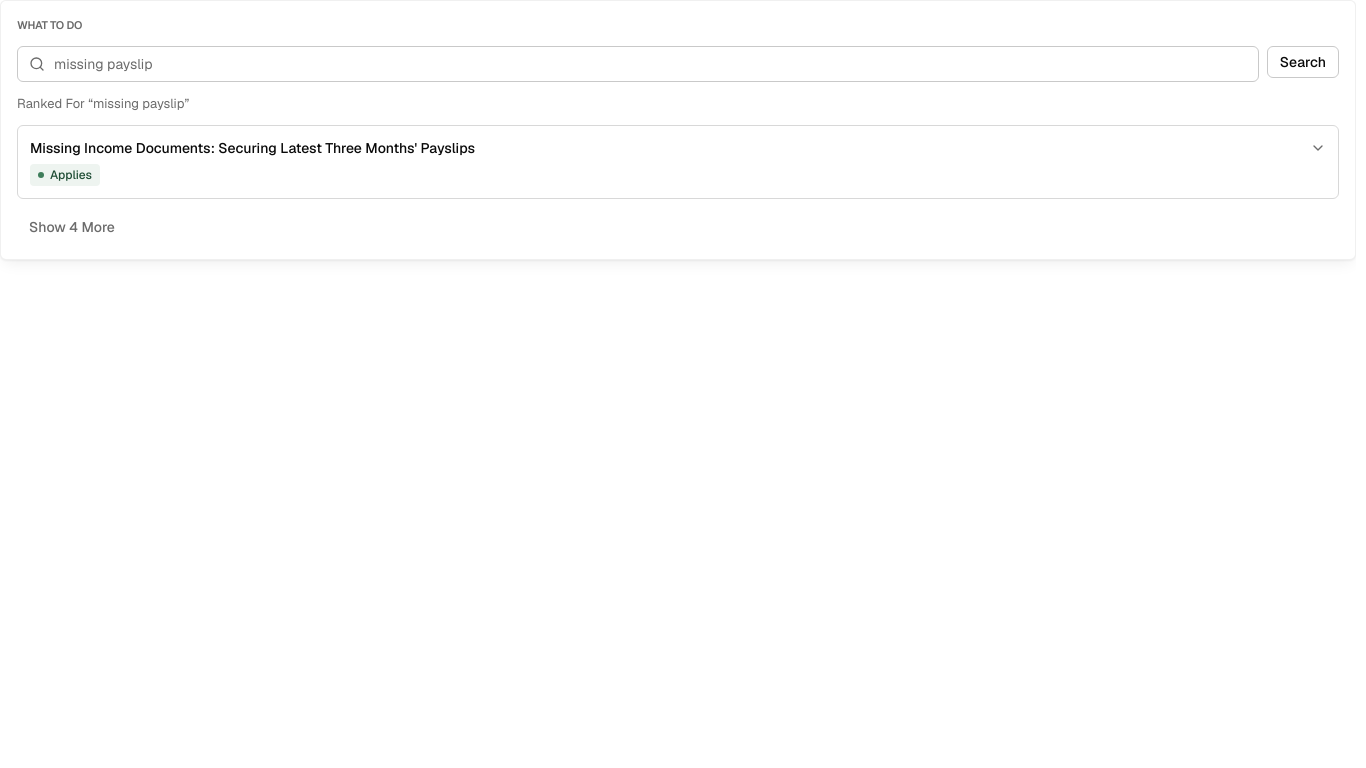
PlaybooksPanel › unfolds the rest behind one click and re-folds
What coordinates should you click on to do the following:
click the button "Show 4 More"
I would click on:
 (72, 227)
Its box is [17,211,127,243].
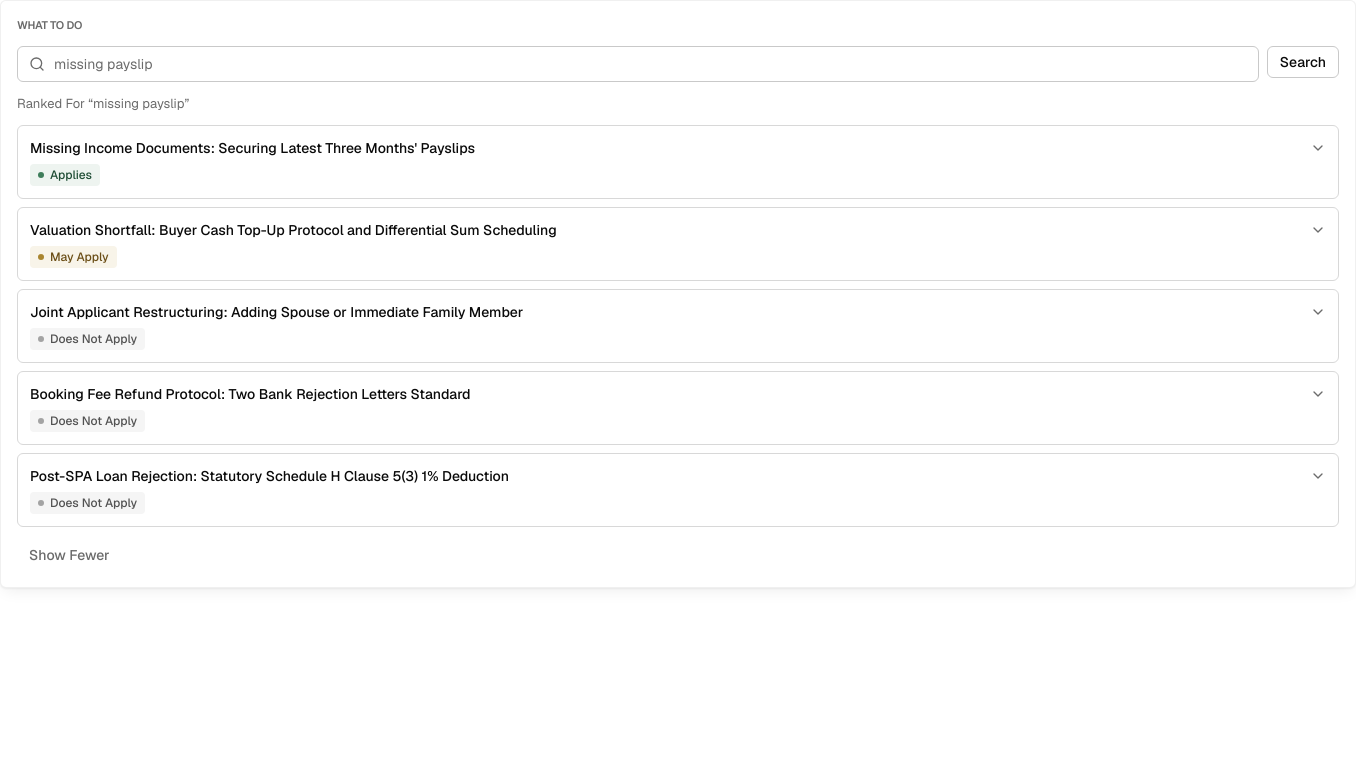
expect the text "Valuation Shortfall: Buyer Cash Top-Up Protocol and Differential Sum Scheduling" is shown: met, box [30,220,557,240]
expect the text "Joint Applicant Restructuring: Adding Spouse or Immediate Family Member" is shown: met, box [30,302,523,322]
expect the text "May Apply" is shown: met, box [30,246,117,268]
What coordinates should you click on to do the following:
click the button "Show Fewer"
I would click on:
 (69, 555)
Its box is [17,539,122,571].
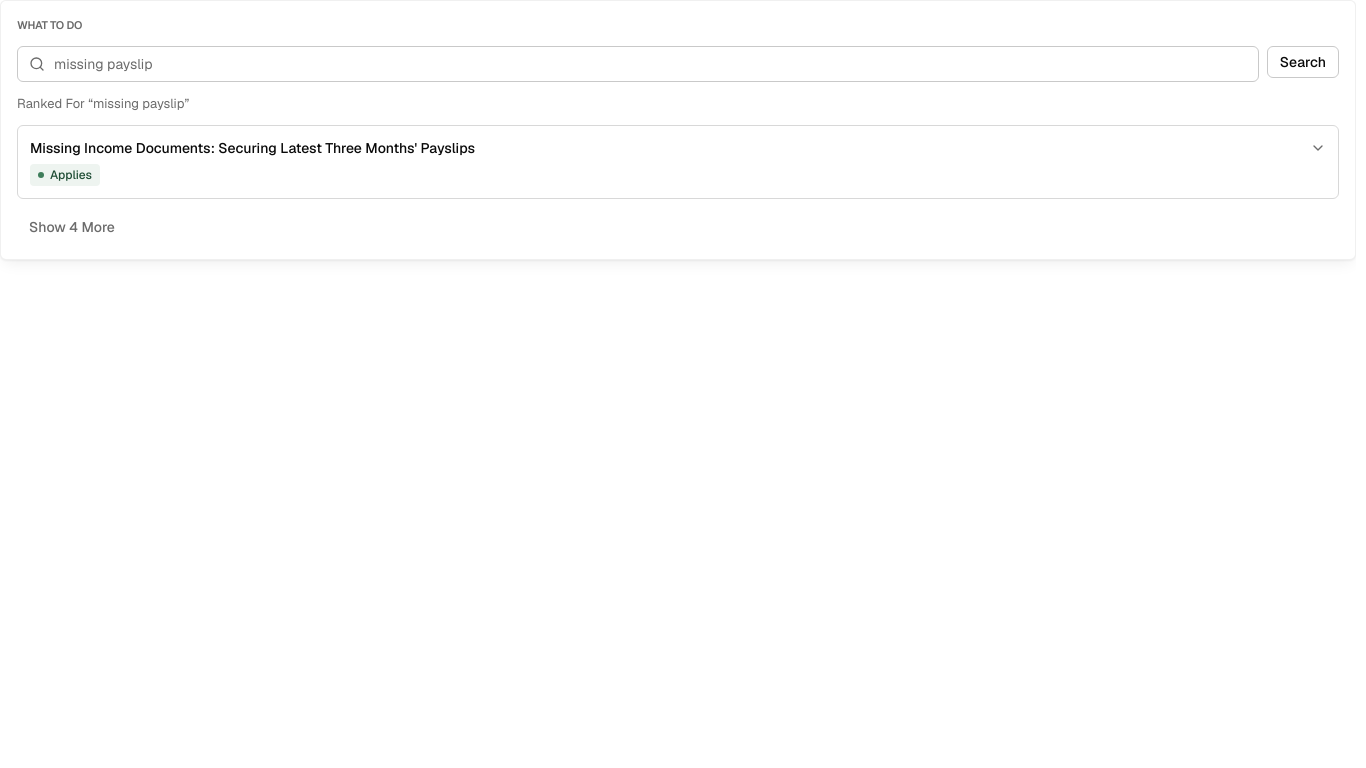
expect the button "Joint Applicant Restructuring: Adding Spouse or Immediate Family Member" is gone: met
